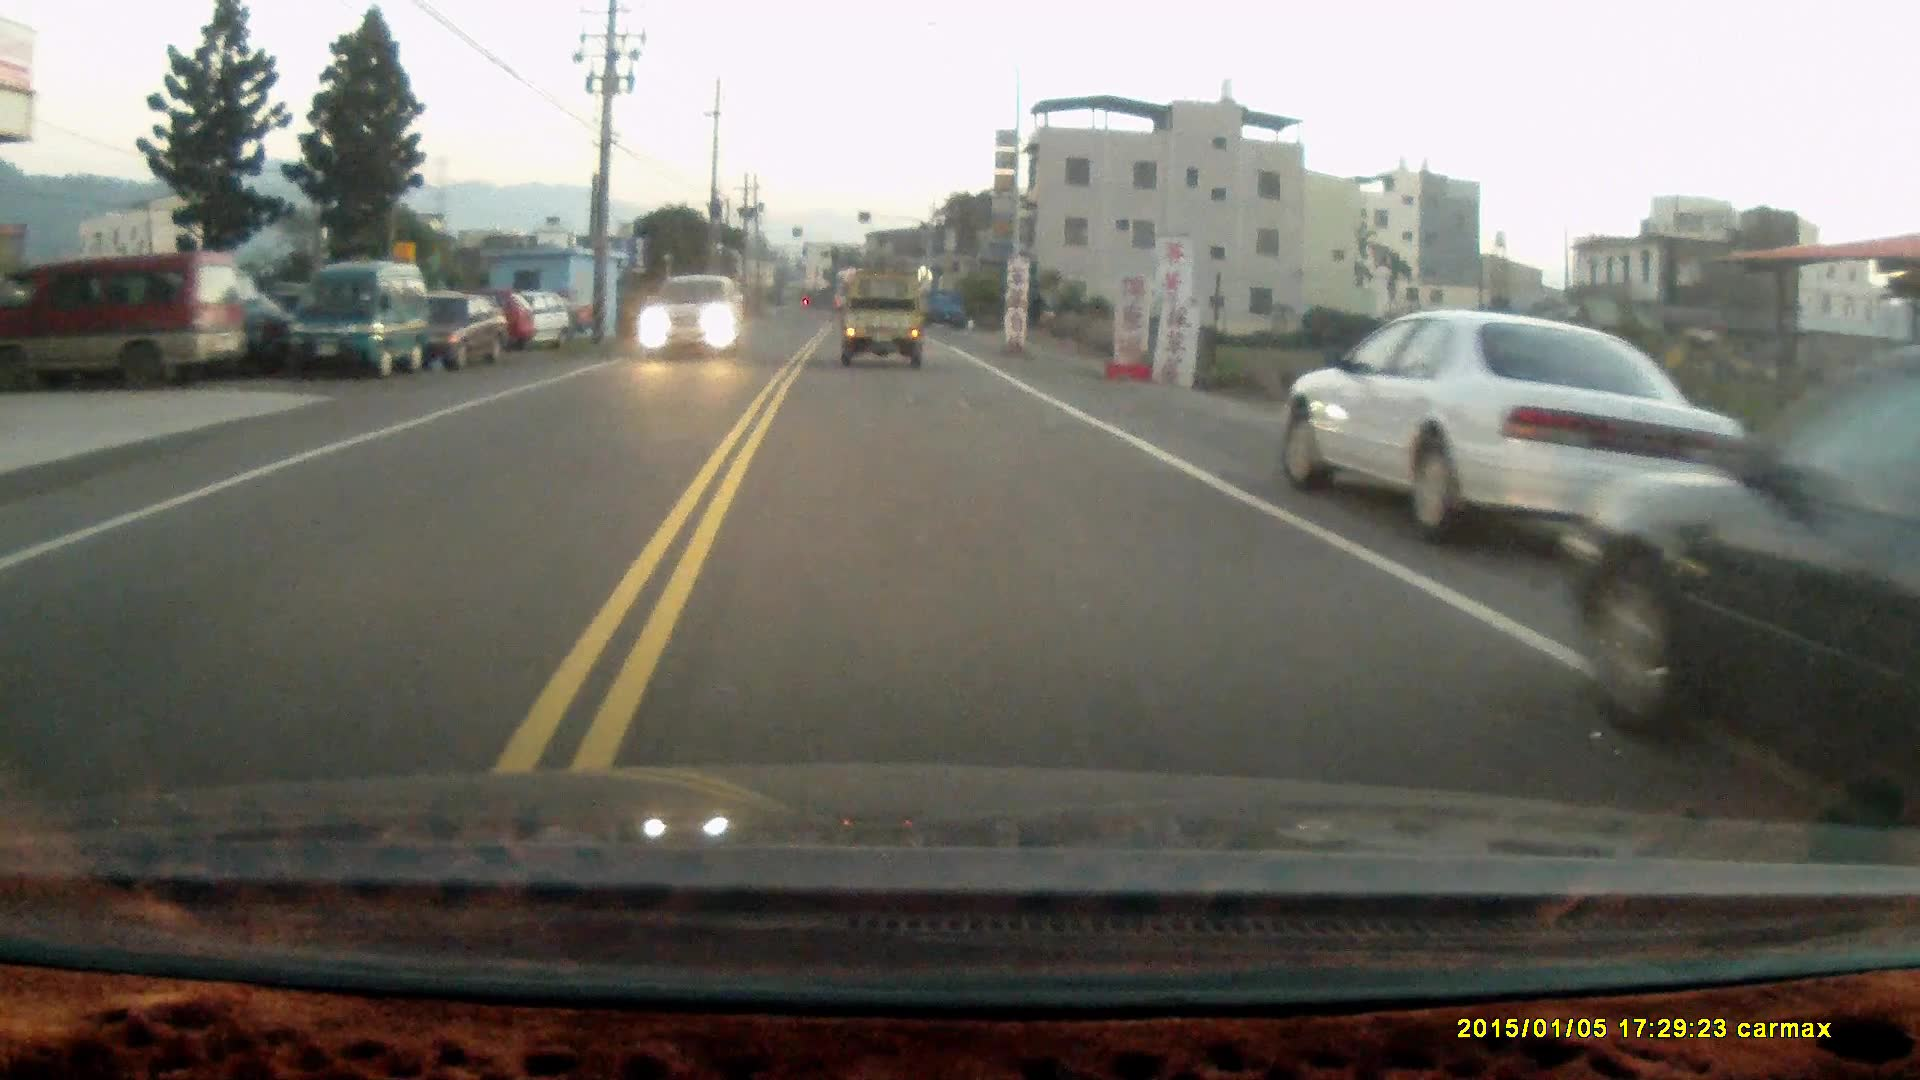vehicle: (1565, 372, 1917, 818), (1279, 314, 1739, 563), (1, 256, 258, 385), (286, 261, 433, 380), (640, 276, 750, 364), (841, 280, 928, 373), (436, 291, 512, 378), (500, 295, 568, 357)
